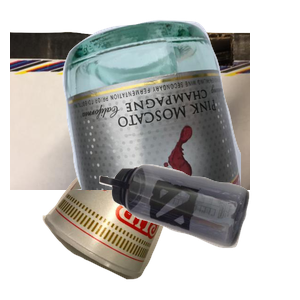cardboard: (10, 29, 250, 209)
glass: (60, 17, 300, 197)
plastic: (97, 162, 300, 300)
trash: (40, 121, 221, 300)
